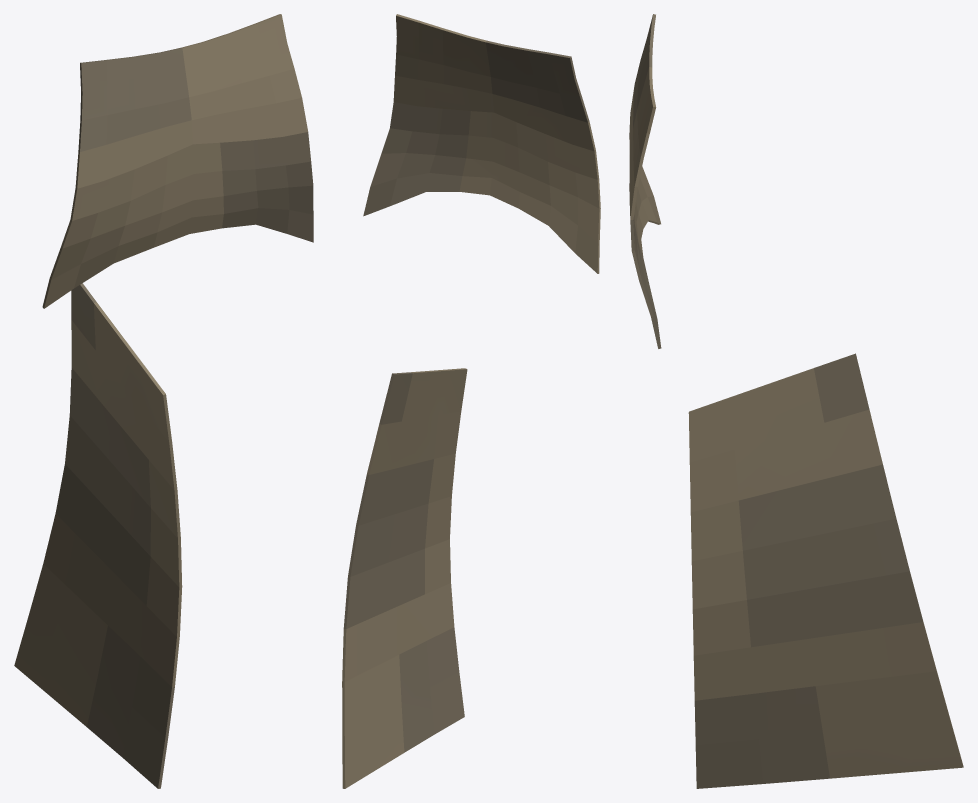
File: MediumShip_3_Mast1_Sails2.fbx
3 views of the same model, side by side, from view 1: azimuth 30°, elevation 25°; view 2: azimuth 150°, elevation 25°; view 3: azimuth 270°, elevation 25° (orthographic). The views are drawn at different scales.
Parts seen in each view (by area): view 1: MediumShip_3_Mast1_Sails2; view 2: MediumShip_3_Mast1_Sails2; view 3: MediumShip_3_Mast1_Sails2.
Part boxes in pixels (box(x1,y1,x2,y2)): MediumShip_3_Mast1_Sails2: box(14, 14, 313, 788); MediumShip_3_Mast1_Sails2: box(342, 14, 600, 788); MediumShip_3_Mast1_Sails2: box(629, 14, 963, 788).
Bounding box in the file's own units: 650 × 1765 × 735.
